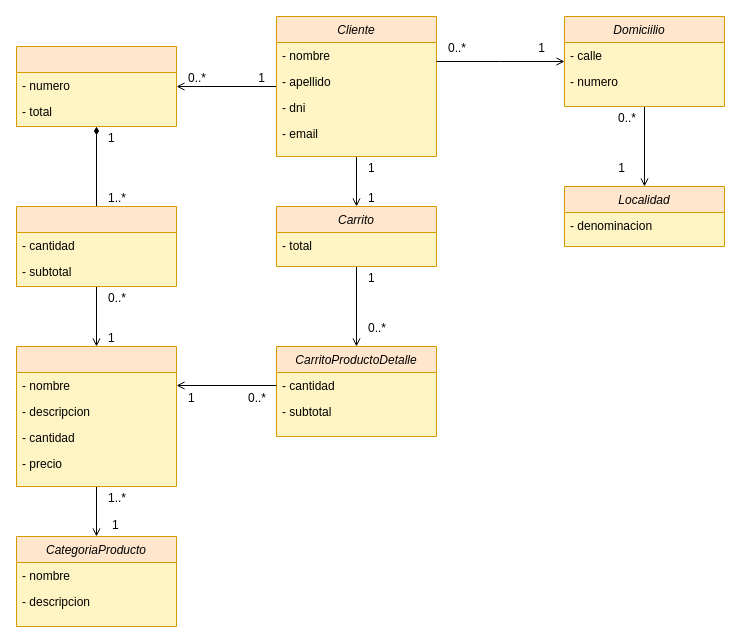
Image size: 741x643. Some labels were removed from this diagram. The box of each missing label's shape, as (x1, y1, x2, y2) in pixels:
Factura: (16, 46, 176, 126)
FacturaDetalle: (16, 206, 176, 286)
Producto: (16, 346, 176, 486)
